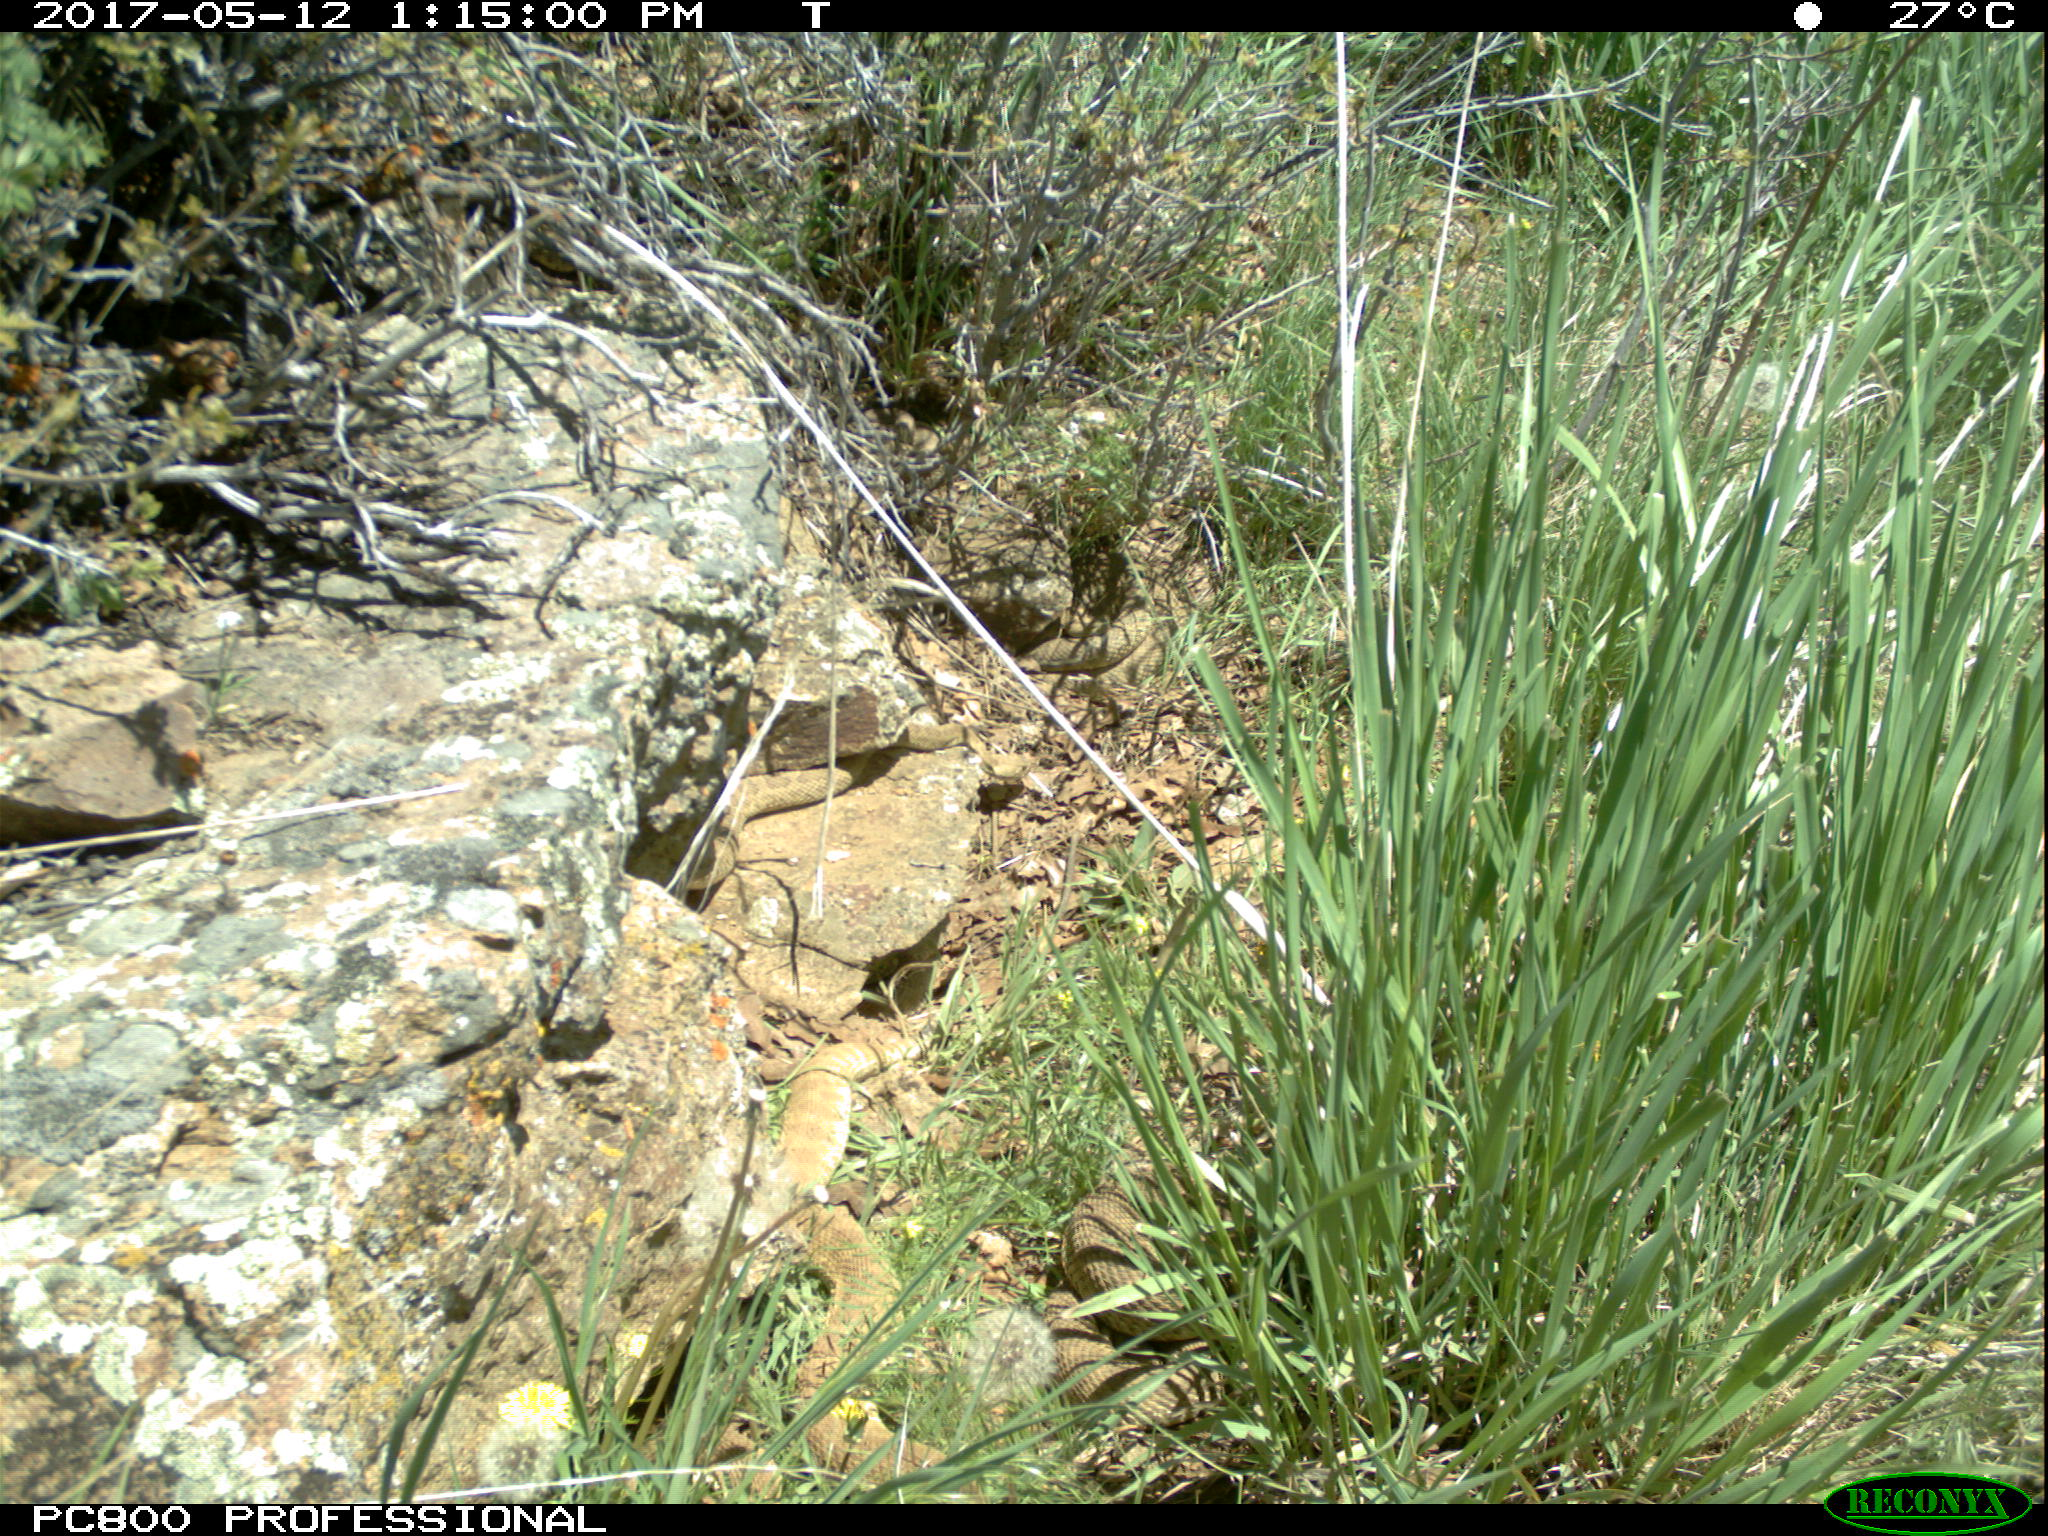snake: (785, 1205, 963, 1497), (1047, 1155, 1221, 1430), (663, 762, 864, 886), (776, 1034, 921, 1204), (1027, 605, 1151, 674), (698, 1426, 784, 1502), (897, 720, 977, 753)
